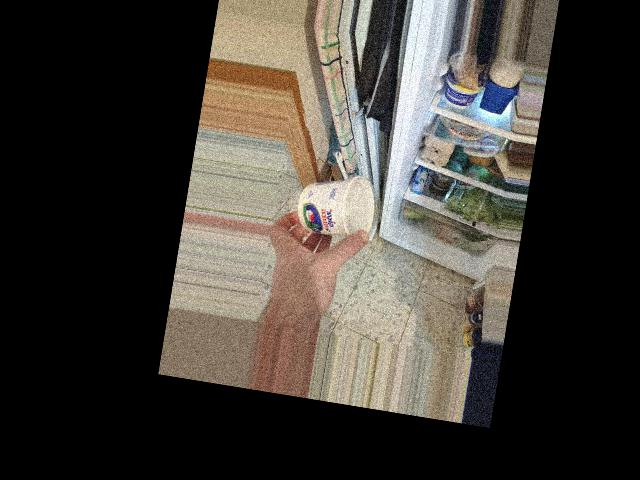cotage: (289, 164, 383, 254)
